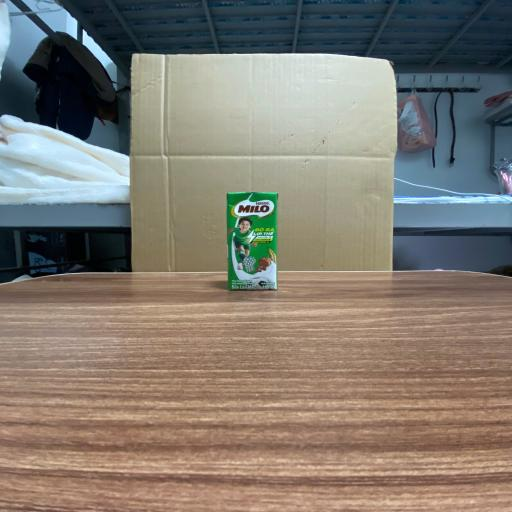milo: (227, 192, 279, 291)
